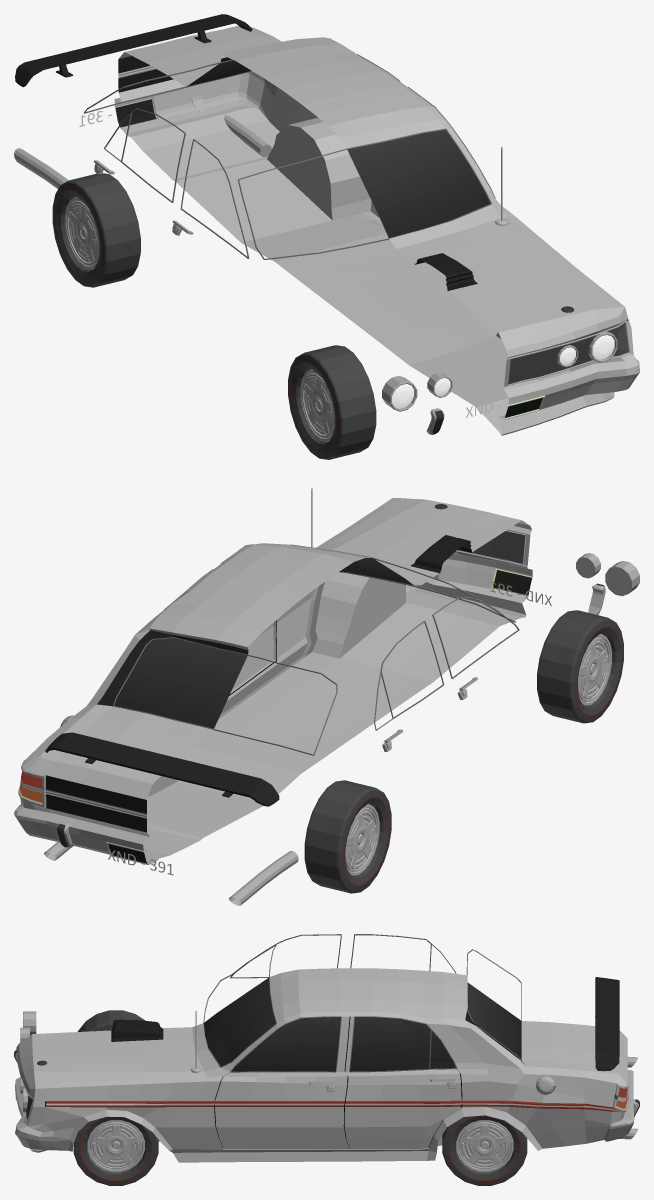
Rendered from sedan2.glb.
3 views of the same model, one above another, from view 1: azimuth 30°, elevation 25°; view 2: azimuth 150°, elevation 25°; view 3: azimuth 270°, elevation 25° (orthographic). The views are drawn at different scales.
Visible parts, largest first — view 1: Cube.018, Circle.048, Circle.049, Cube.015, Cube.017, Circle.045, Circle.041; view 2: Cube.018, Circle.049, Circle.048, Cube.015, Cube.017, Circle.045, Circle.041; view 3: Cube.018, Circle.044, Circle.043, Cube.017, Cube.015, Circle.048, Circle.045.
Boxes of the visible parts, x1=… form: Cube.018: x1=114, y1=26, x2=639, y2=435; Circle.048: x1=288, y1=345, x2=376, y2=459; Circle.049: x1=52, y1=173, x2=140, y2=287; Cube.015: x1=15, y1=14, x2=252, y2=87; Cube.017: x1=84, y1=54, x2=495, y2=259; Circle.045: x1=382, y1=331, x2=617, y2=411; Circle.041: x1=14, y1=112, x2=271, y2=188; Cube.018: x1=14, y1=498, x2=532, y2=864; Circle.049: x1=304, y1=780, x2=391, y2=893; Circle.048: x1=537, y1=610, x2=623, y2=723; Cube.015: x1=45, y1=732, x2=279, y2=806; Cube.017: x1=113, y1=544, x2=519, y2=755; Circle.045: x1=576, y1=553, x2=639, y2=596; Circle.041: x1=44, y1=842, x2=298, y2=905; Cube.018: x1=15, y1=968, x2=634, y2=1162; Circle.044: x1=442, y1=1115, x2=527, y2=1185; Circle.043: x1=73, y1=1116, x2=158, y2=1185; Cube.017: x1=203, y1=934, x2=521, y2=1072; Cube.015: x1=595, y1=977, x2=619, y2=1071; Circle.048: x1=77, y1=1010, x2=145, y2=1031; Circle.045: x1=20, y1=1011, x2=36, y2=1112.
Bounding box in the file's own units: 1.88 × 1.4 × 4.73.
7 materials, 5 textured.
